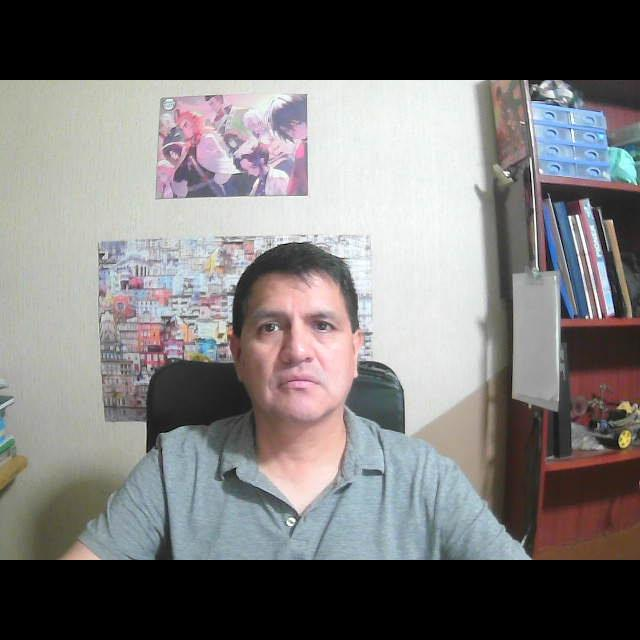cesar: (185, 236, 418, 464)
